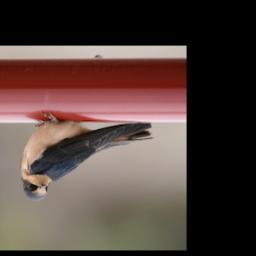Swallow: (19, 107, 155, 204)
